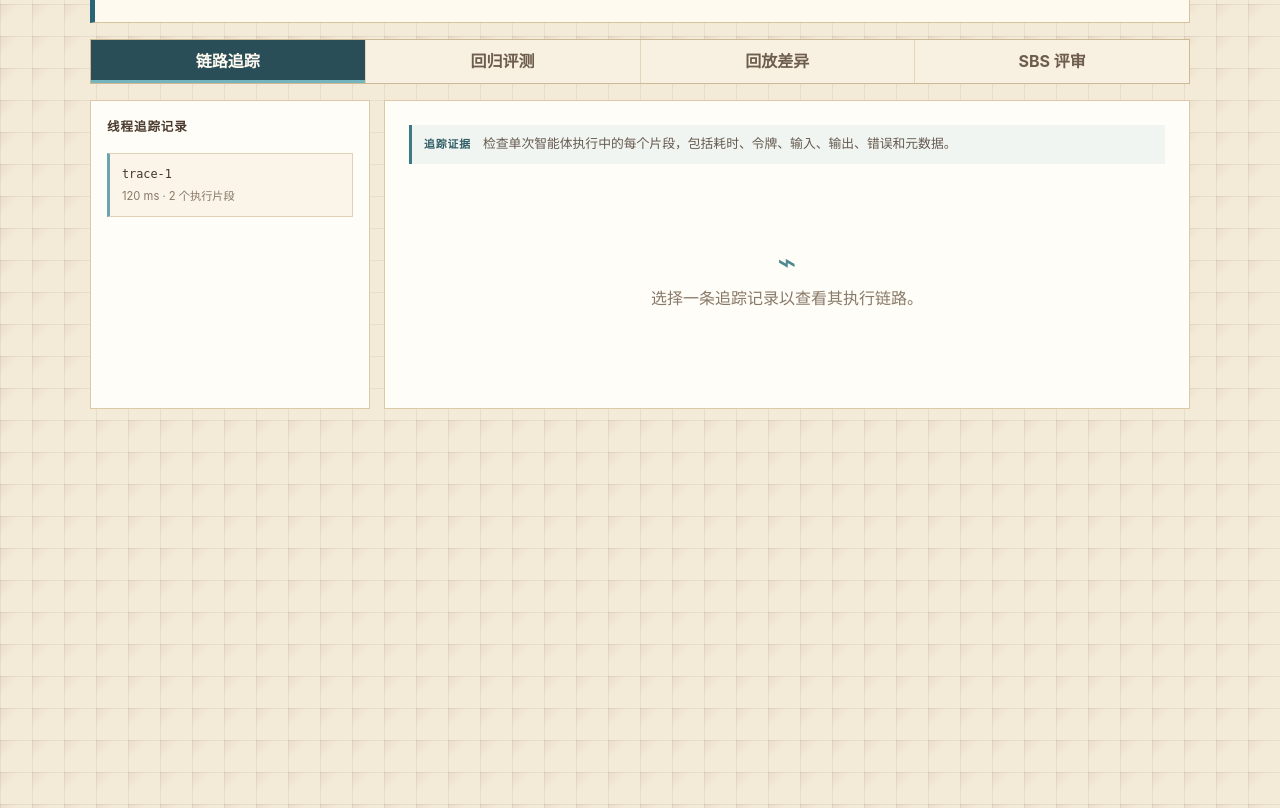
Test case: EngineeringPanel › requires a reason before submitting both-bad SBS review
Click the tab "SBS 评审" at coordinates (1052, 62), box 915,40 -> 1189,83
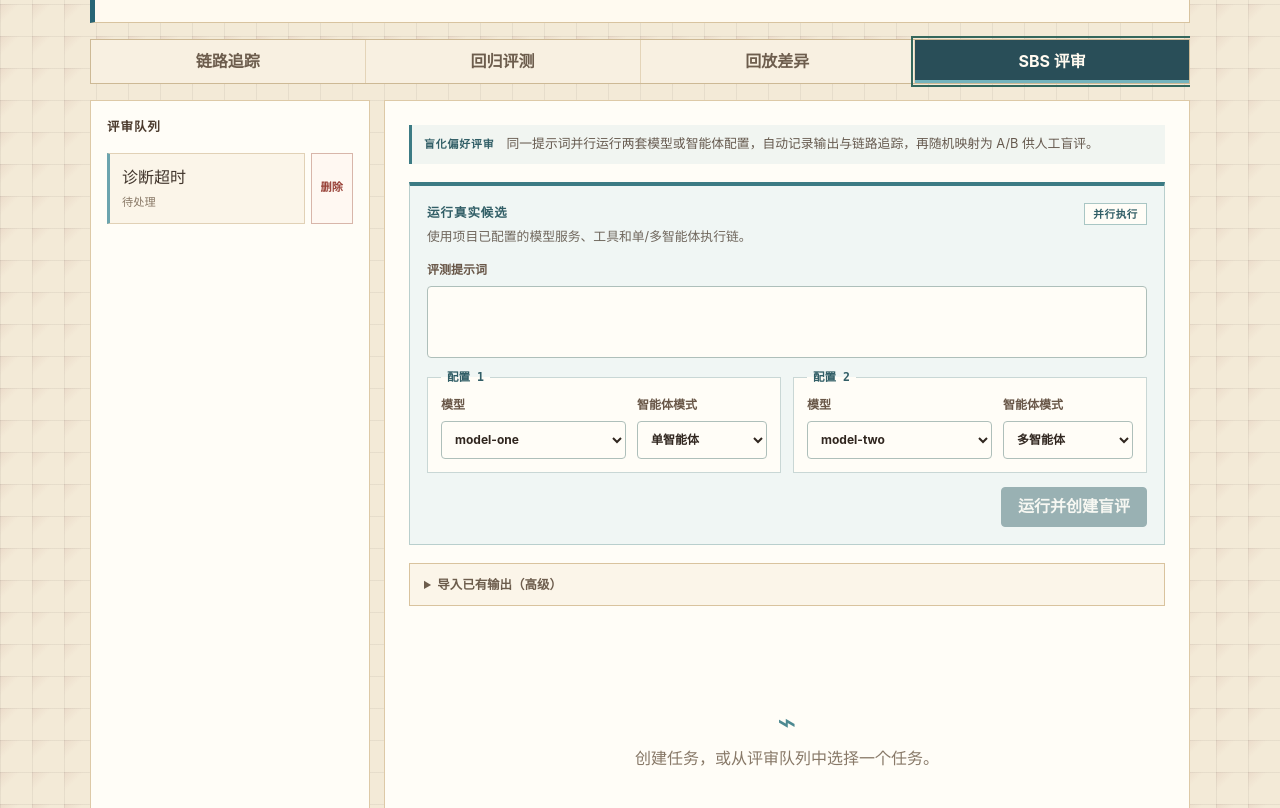
Click the button named "诊断超时待处理" at coordinates (206, 188), box 107,153 -> 305,224
(page scrolled)
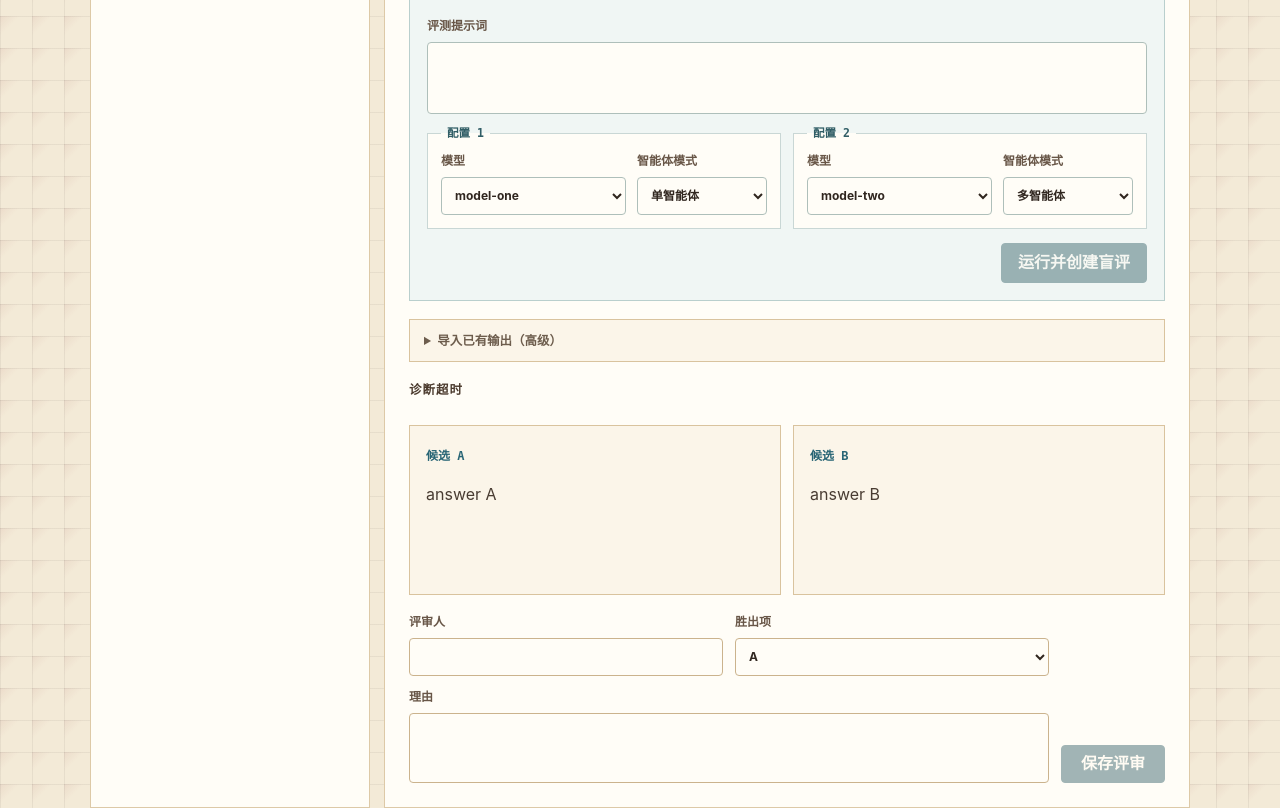
Select "两者都不合格" in the dropdown labelled "胜出项" at coordinates (892, 657), box 735,638 -> 1049,676
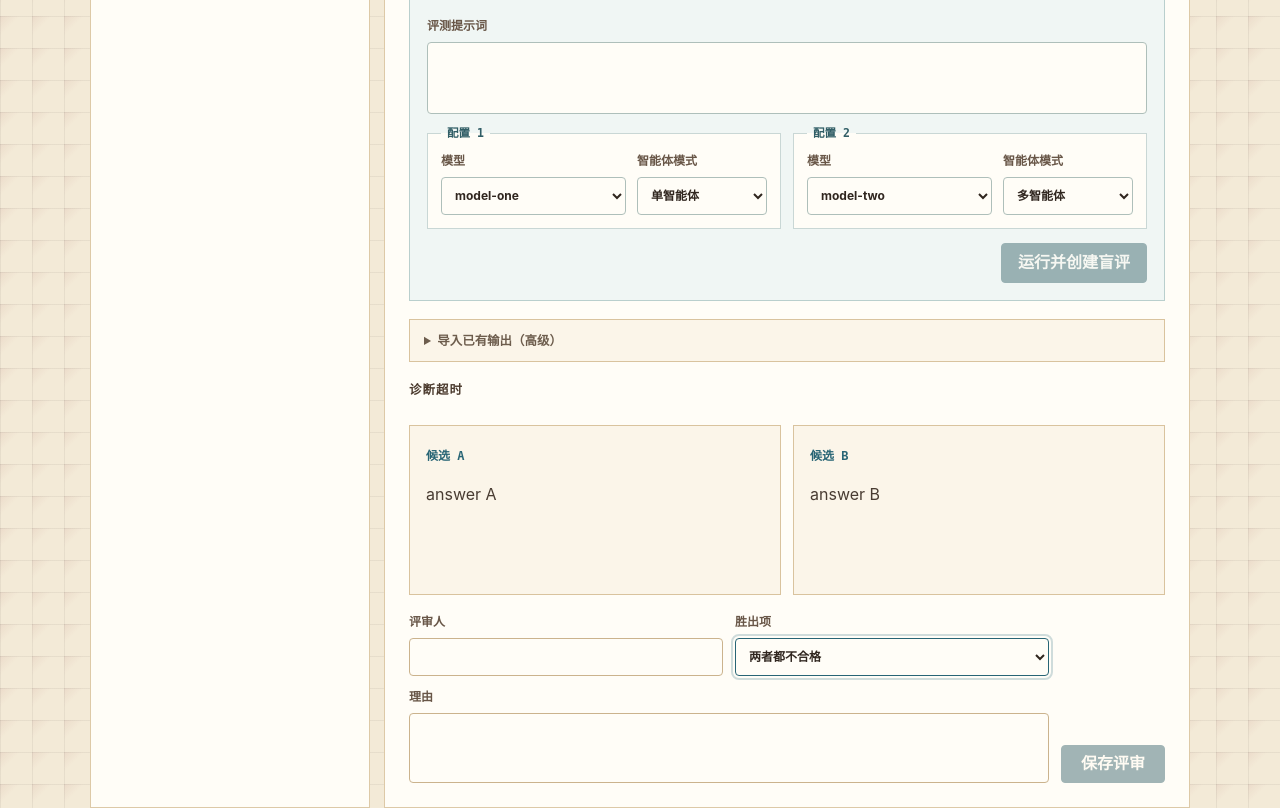
Now the button "保存评审" is disabled, box 1061,744 -> 1165,782
Type "alice" into the field labelled "评审人" at coordinates (566, 657), box 409,638 -> 723,676
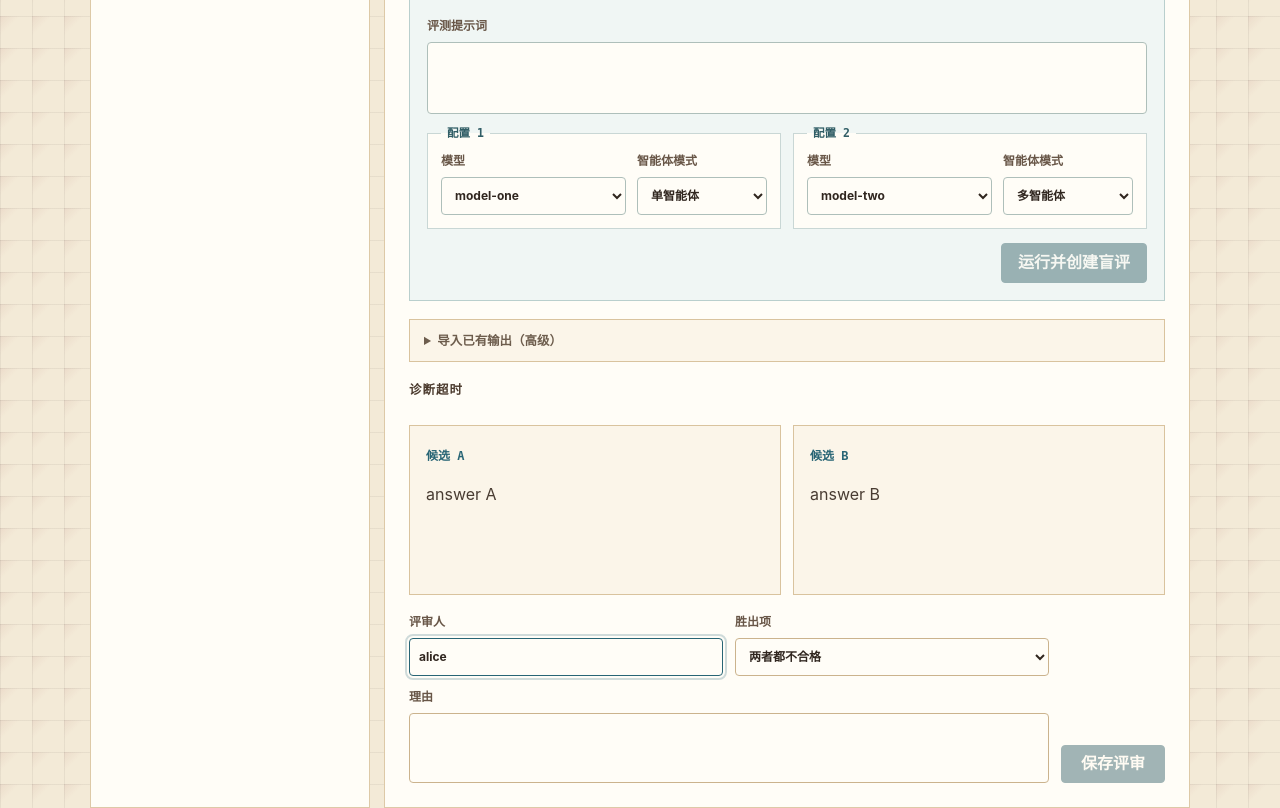
Type "两边都缺少证据" into the text box labelled "理由" at coordinates (729, 748), box 409,712 -> 1049,782
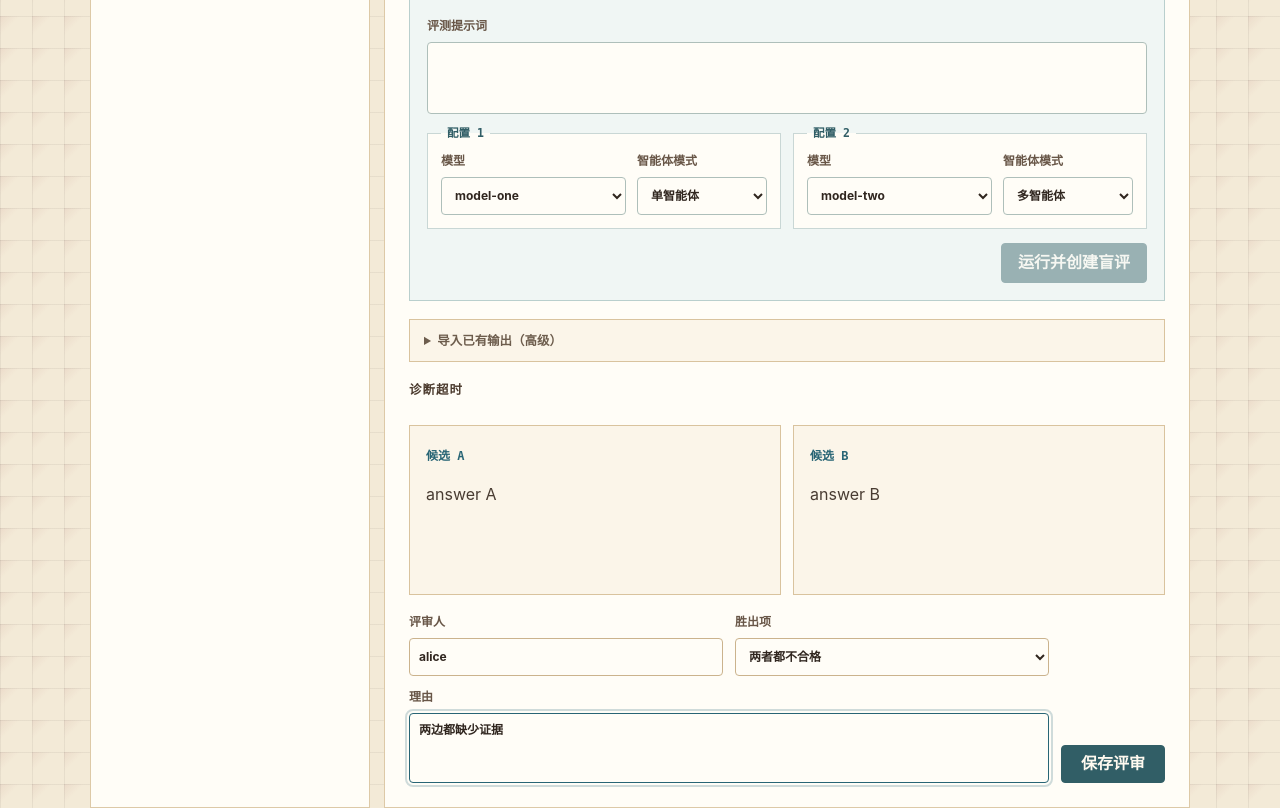
Now the button "保存评审" is enabled
Click the button "保存评审" at coordinates (1113, 764), box 1061,744 -> 1165,782
(page scrolled)
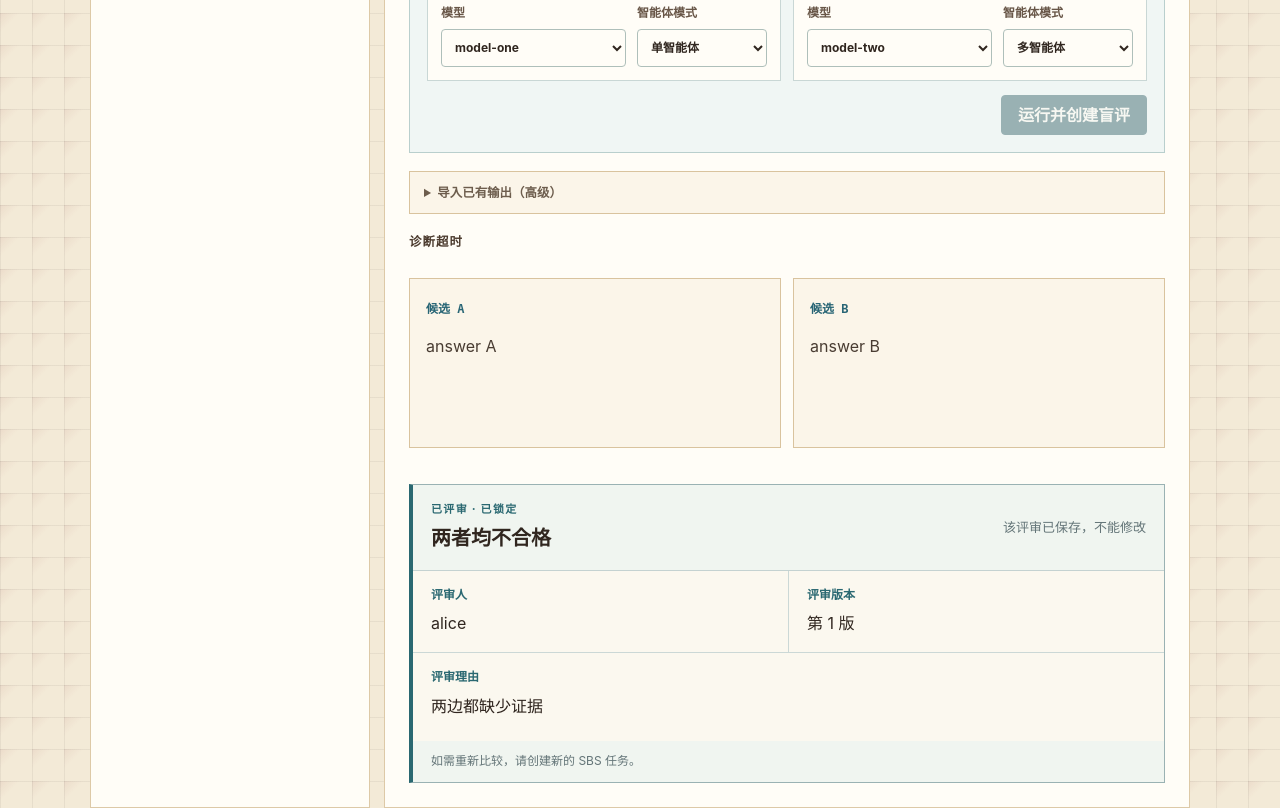
Now the element named "评审结果" is shown, box 409,484 -> 1165,782
